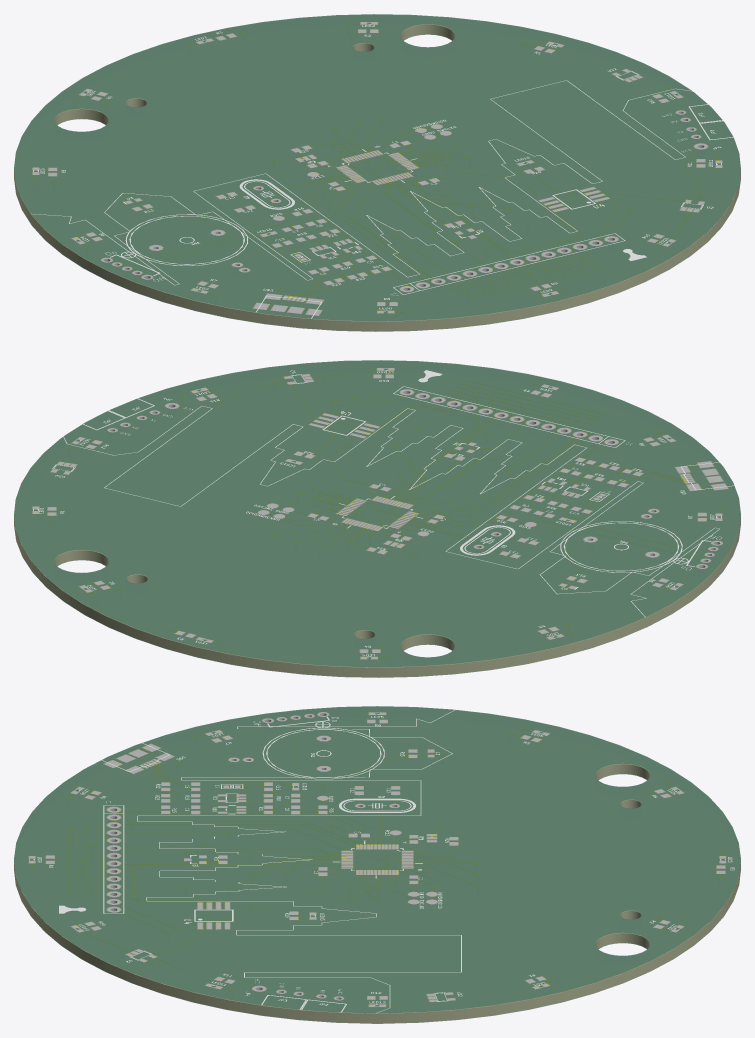
Rendered from bsides-slc-2019-badge.glb.
The picture shows the model from 3 angles, top to bottom: view 1: azimuth 30°, elevation 25°; view 2: azimuth 150°, elevation 25°; view 3: azimuth 270°, elevation 25°; orthographic projection.
Parts seen in each view (by area): view 1: =>[0:1:1:7], =>[0:1:1:9], =>[0:1:1:2], =>[0:1:1:5]; view 2: =>[0:1:1:7], =>[0:1:1:9], =>[0:1:1:2], =>[0:1:1:5]; view 3: =>[0:1:1:7], =>[0:1:1:9], =>[0:1:1:2], =>[0:1:1:5].
Part boxes in pixels (x1=…): =>[0:1:1:7]: x1=14, y1=14, x2=740, y2=331; =>[0:1:1:9]: x1=14, y1=15, x2=740, y2=331; =>[0:1:1:2]: x1=33, y1=22, x2=721, y2=315; =>[0:1:1:5]: x1=31, y1=22, x2=733, y2=318; =>[0:1:1:7]: x1=14, y1=360, x2=740, y2=677; =>[0:1:1:9]: x1=14, y1=361, x2=740, y2=677; =>[0:1:1:2]: x1=33, y1=368, x2=727, y2=659; =>[0:1:1:5]: x1=33, y1=368, x2=734, y2=657; =>[0:1:1:7]: x1=14, y1=706, x2=740, y2=1023; =>[0:1:1:9]: x1=14, y1=707, x2=740, y2=1023; =>[0:1:1:2]: x1=29, y1=712, x2=725, y2=1007; =>[0:1:1:5]: x1=29, y1=709, x2=734, y2=1013.
Size of the model in its own units: 0.1016 by 0.00166 by 0.1016.
4 materials, 4 textured.
